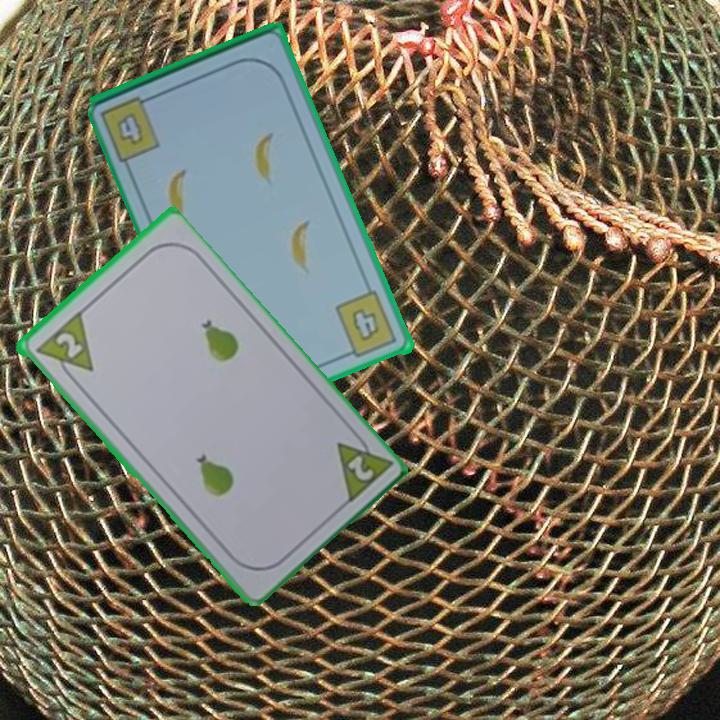2p: (51, 328, 85, 361), (343, 451, 376, 484)
4b: (332, 288, 401, 361), (97, 91, 164, 165)
